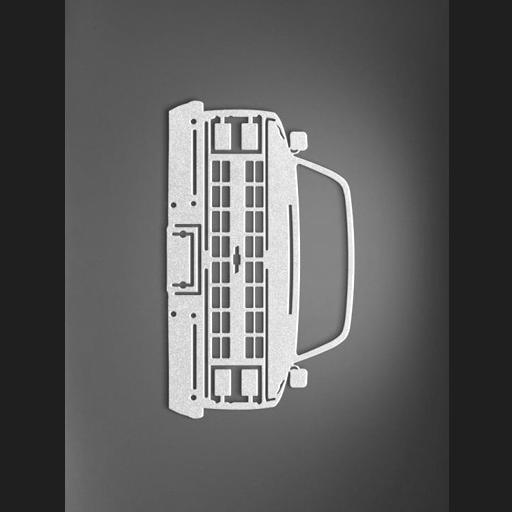truck: (167, 103, 353, 419)
